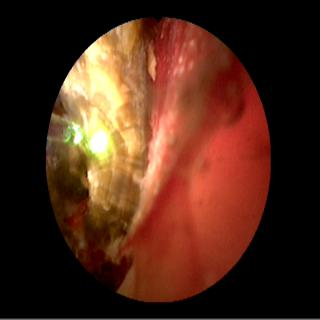laser: (87, 126, 112, 163), (72, 123, 84, 144)
stone: (52, 25, 147, 234), (147, 41, 156, 80)
tissue: (90, 20, 267, 295)
